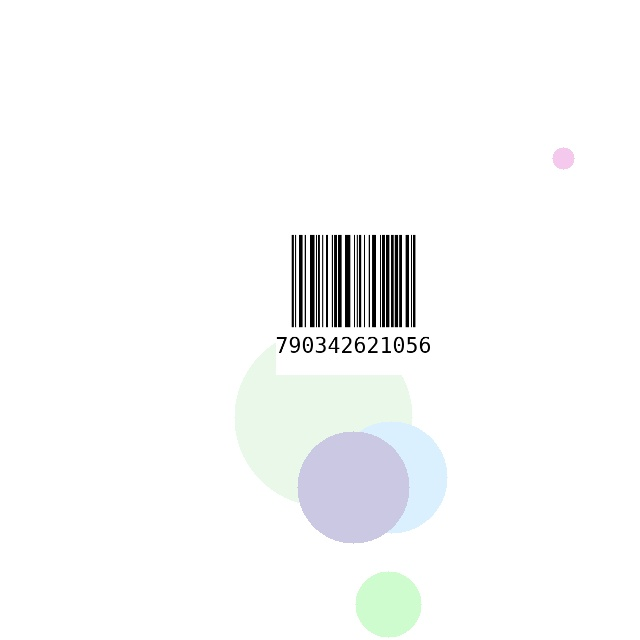barcode: (276, 229, 431, 375)
